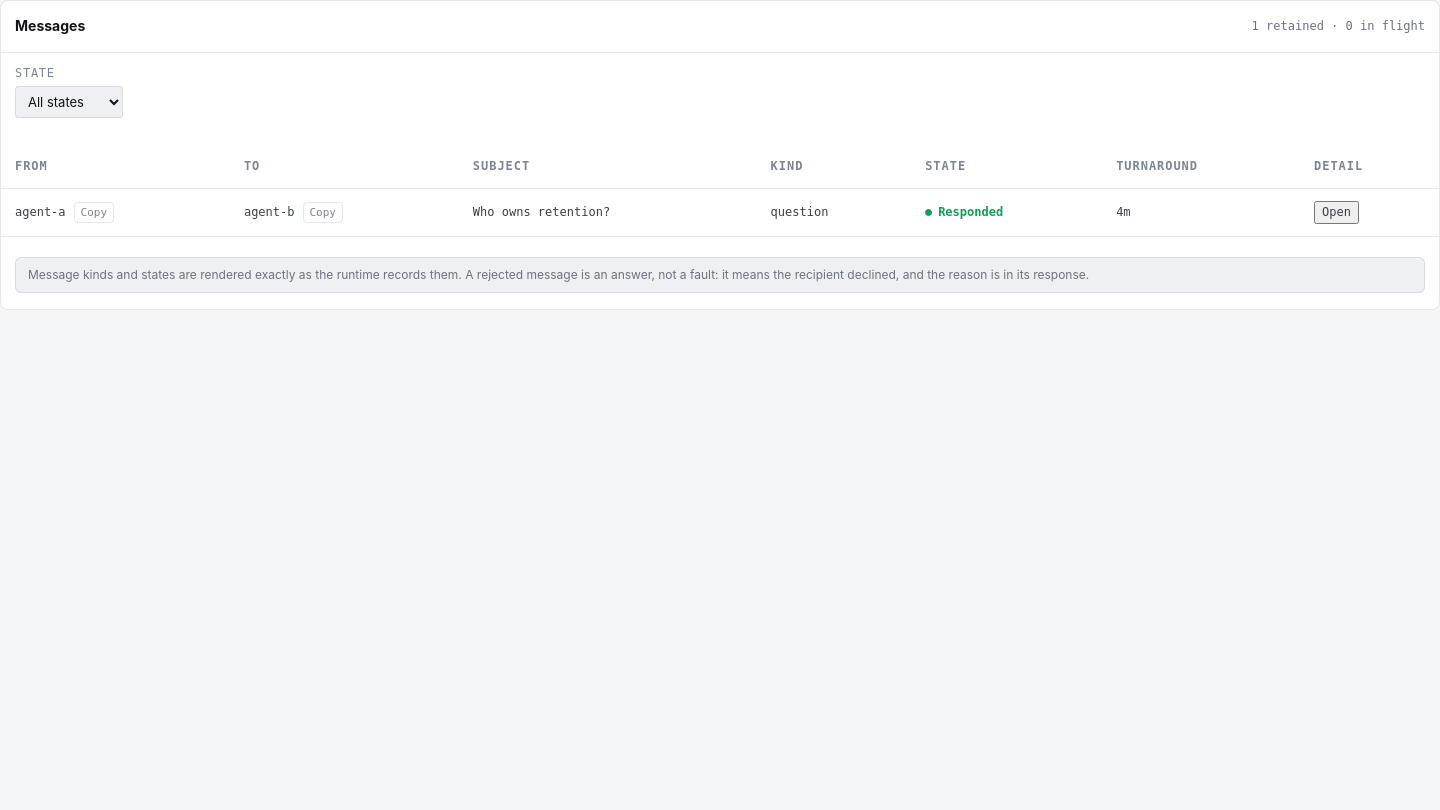
Test case: MessagesView › reports an unreported confidence rather than rendering it as zero
The width and height of the screenshot is (1440, 810).
Step 1. Click the button "Open" → (1336, 212), box [1314,201,1359,224]
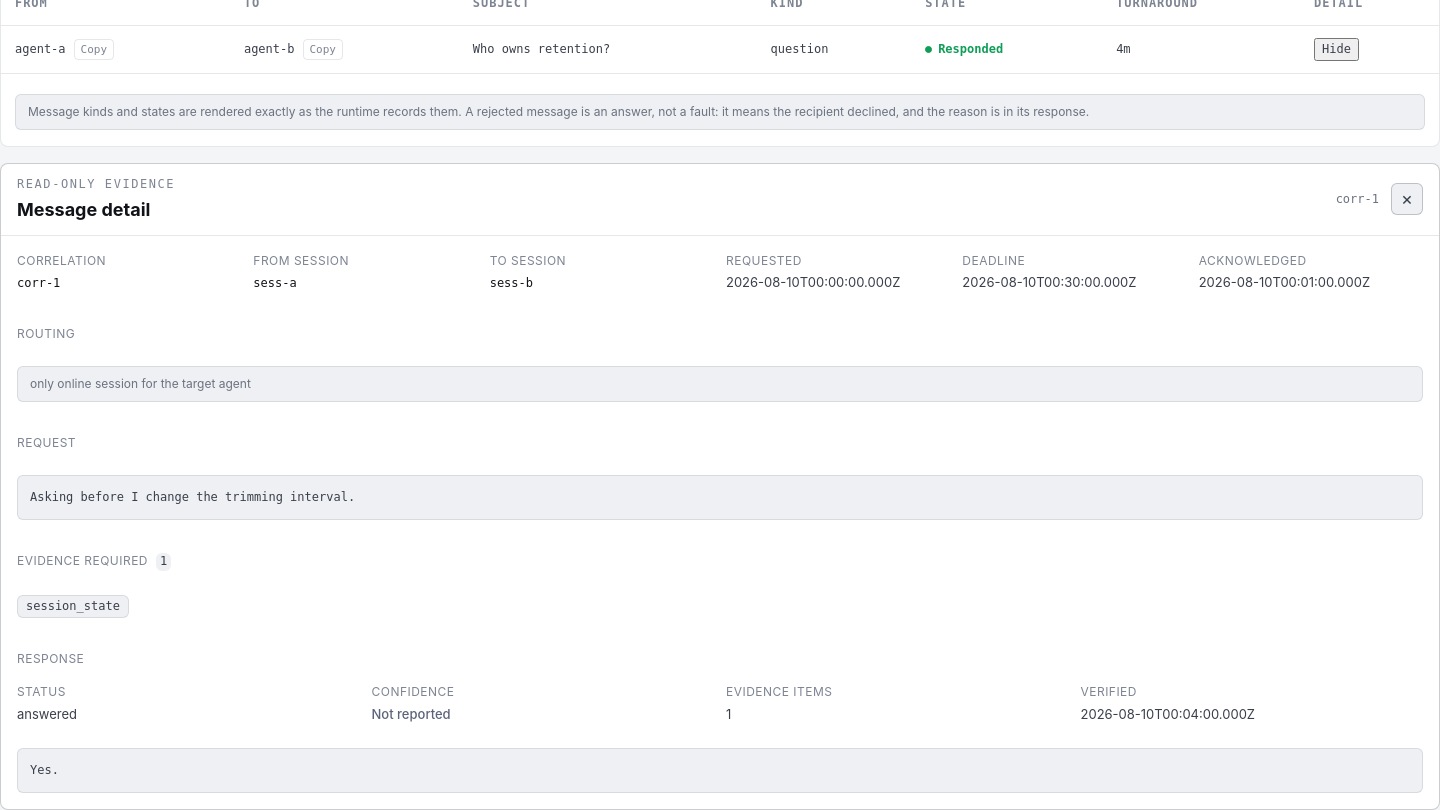
Check: the text "Not reported" is shown, box [372,706,451,722]
